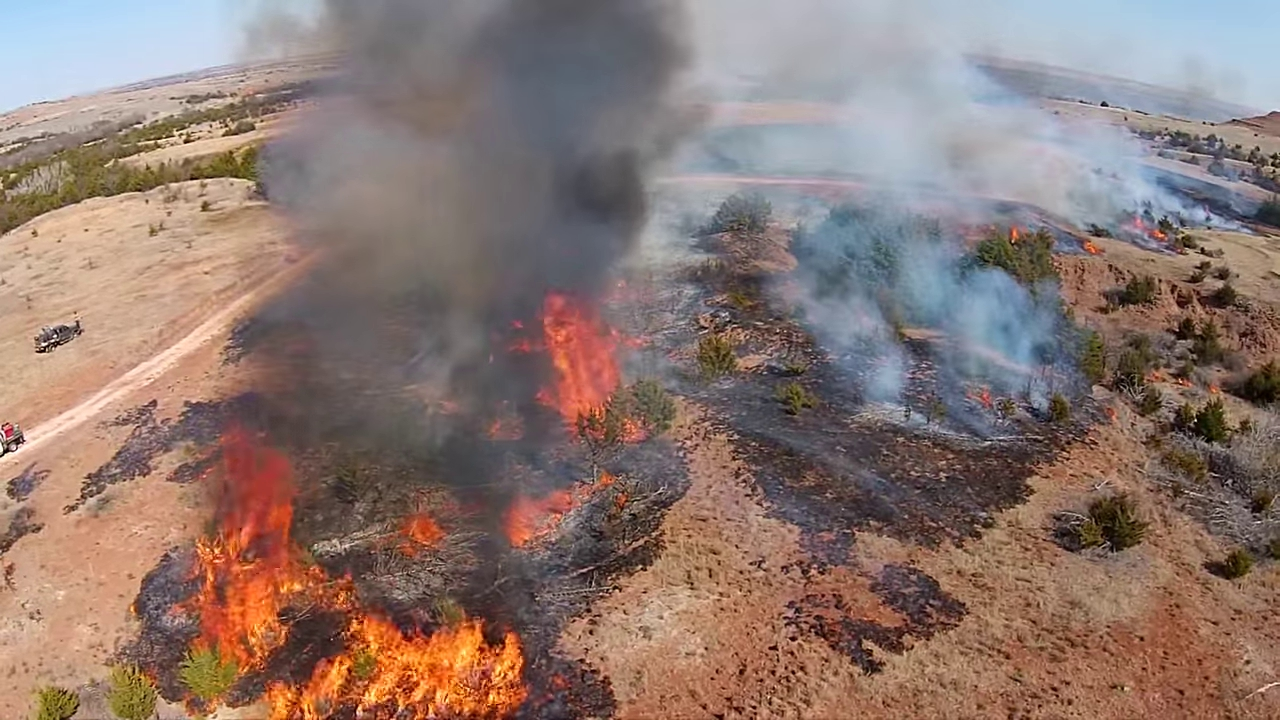forest_fire: (191, 427, 526, 718), (512, 292, 634, 441), (503, 472, 614, 547), (1063, 216, 1179, 255), (973, 226, 1059, 257), (614, 413, 658, 444), (403, 515, 441, 543)
